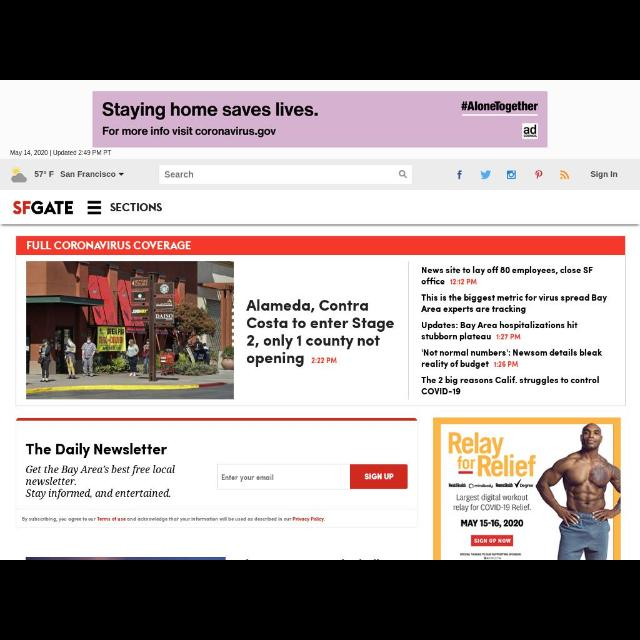icon: (12, 167, 28, 183), (88, 201, 102, 215), (398, 170, 408, 178), (118, 173, 124, 175)
iframe: (434, 417, 620, 559), (93, 92, 547, 146)
image: (27, 262, 234, 398), (13, 202, 73, 214), (481, 170, 492, 180), (560, 170, 570, 180), (506, 171, 516, 179), (536, 171, 542, 179), (458, 171, 462, 179)
input: (160, 166, 412, 184), (218, 464, 350, 490)
spinner: (34, 170, 124, 178)
text: (248, 299, 394, 366), (26, 466, 176, 500), (422, 294, 606, 314), (422, 349, 602, 369), (422, 377, 600, 395), (422, 321, 578, 341), (422, 266, 592, 284), (27, 444, 167, 458), (22, 517, 326, 523), (27, 242, 192, 250), (10, 150, 111, 156), (36, 171, 116, 177), (110, 204, 162, 212), (221, 474, 273, 482), (364, 472, 394, 480), (164, 171, 193, 179), (592, 171, 618, 179)
textbutton: (351, 465, 407, 489)
toolbar: (1, 158, 639, 190)
